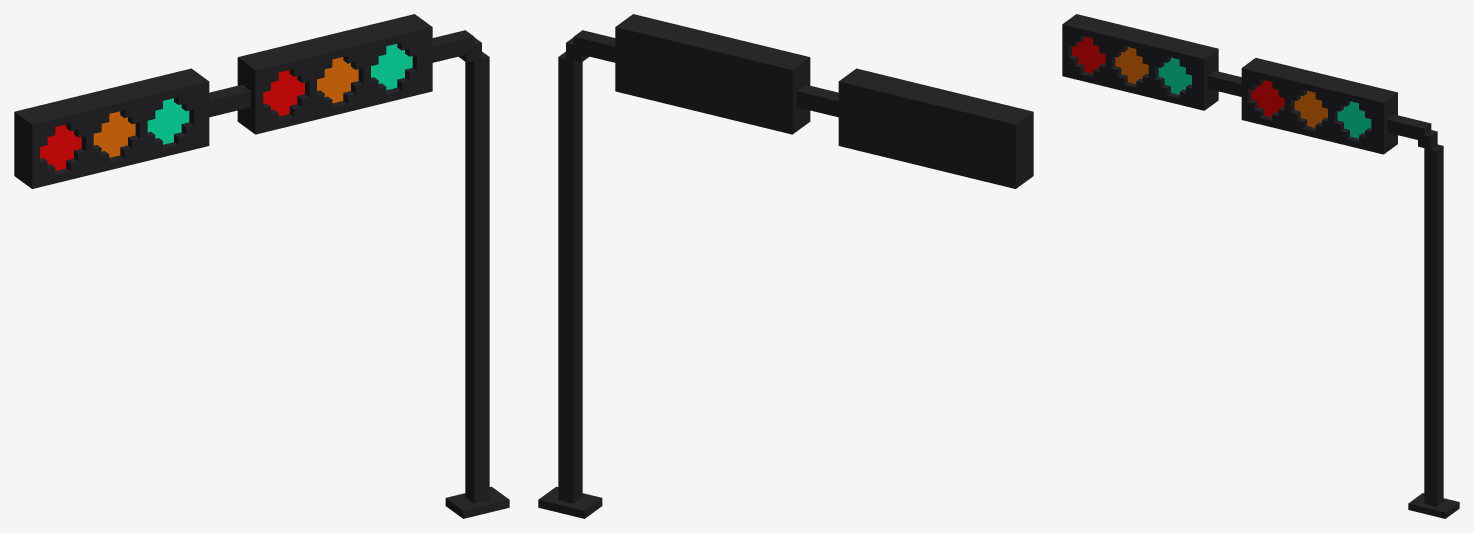
Rendered from TrafficLight_002.obj.
3 views of the same model, side by side, from view 1: azimuth 30°, elevation 25°; view 2: azimuth 150°, elevation 25°; view 3: azimuth 330°, elevation 25° (orthographic). The views are drawn at different scales.
Bounding box in the file's own units: 6.2 × 6.2 × 0.4.
Materials: 1 (1 with a texture image).
